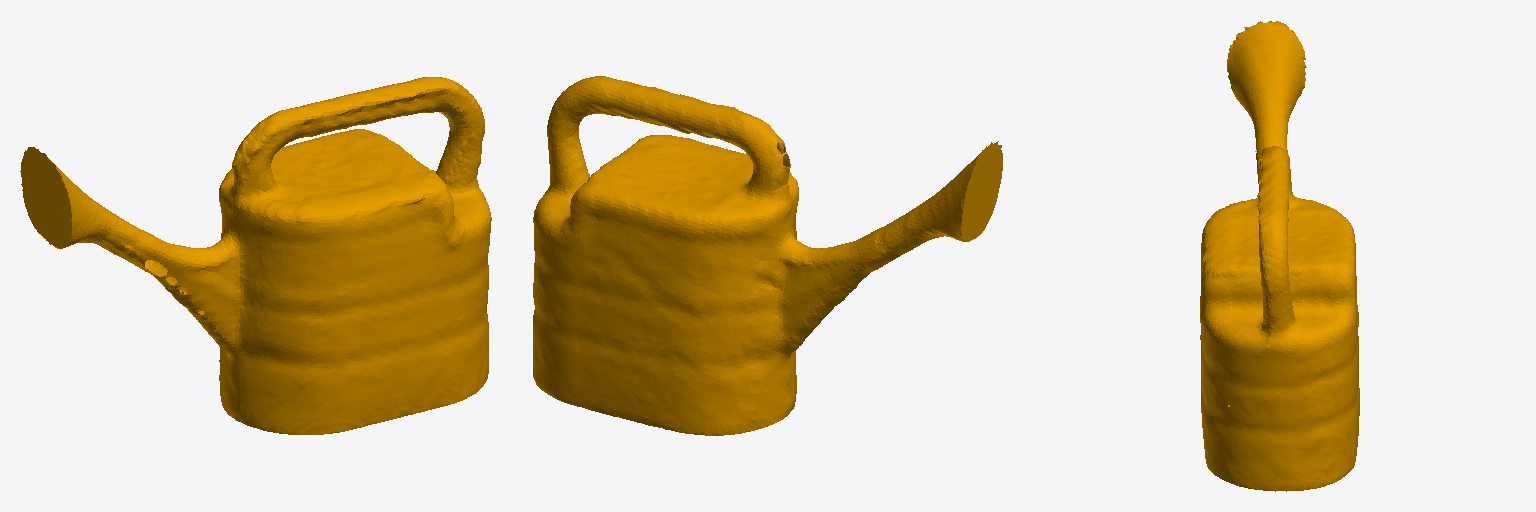
robot.urdf — flowerspray:
<robot name="flowerspray">
  <link name="flowerspray">
    <inertial>
      <origin xyz="0 0 0.0145"/>
      <mass value="0.1" />
      <inertia  ixx="0.0001" ixy="0.0"  ixz="0.0"  iyy="0.0001"  iyz="0.0"  izz="0.0001" />
    </inertial>
    <visual>
      <origin xyz="0 0 0.0145"/>
      <geometry>        
     <mesh filename="flowerspray.dae" scale="1 1 1"/>
    </geometry>
    </visual>
    <collision>
      <origin xyz="0 0 0.0145"/>
      <geometry>
        <box size="0.029 0.029 0.029"/>
      </geometry>
    </collision>
  </link>
  <gazebo reference="flowerspray">
    <material>Gazebo/Blue</material>
  </gazebo>
</robot>

--- What the picture shows (computed from the rendered views, not written in the file) ---
Views: 3 orthographic renders of the robot side by side, from view 1: azimuth 30°, elevation 25°; view 2: azimuth 150°, elevation 25°; view 3: azimuth 270°, elevation 25°.
Robot: flowerspray — 1 links, 0 joints (none); root link flowerspray; default pose: every joint at zero.
Links seen in each view (by area): view 1: flowerspray; view 2: flowerspray; view 3: flowerspray.
Boxes of the visible links, bbox=[...] form: flowerspray: bbox=[20, 77, 491, 434]; flowerspray: bbox=[533, 76, 1002, 435]; flowerspray: bbox=[1200, 21, 1359, 491].
Bounding box of the posed robot: 0.432 × 0.1524 × 0.298 m (x, y, z).
1 mesh visuals loaded from 1 distinct referenced files (1 Collada DAE).